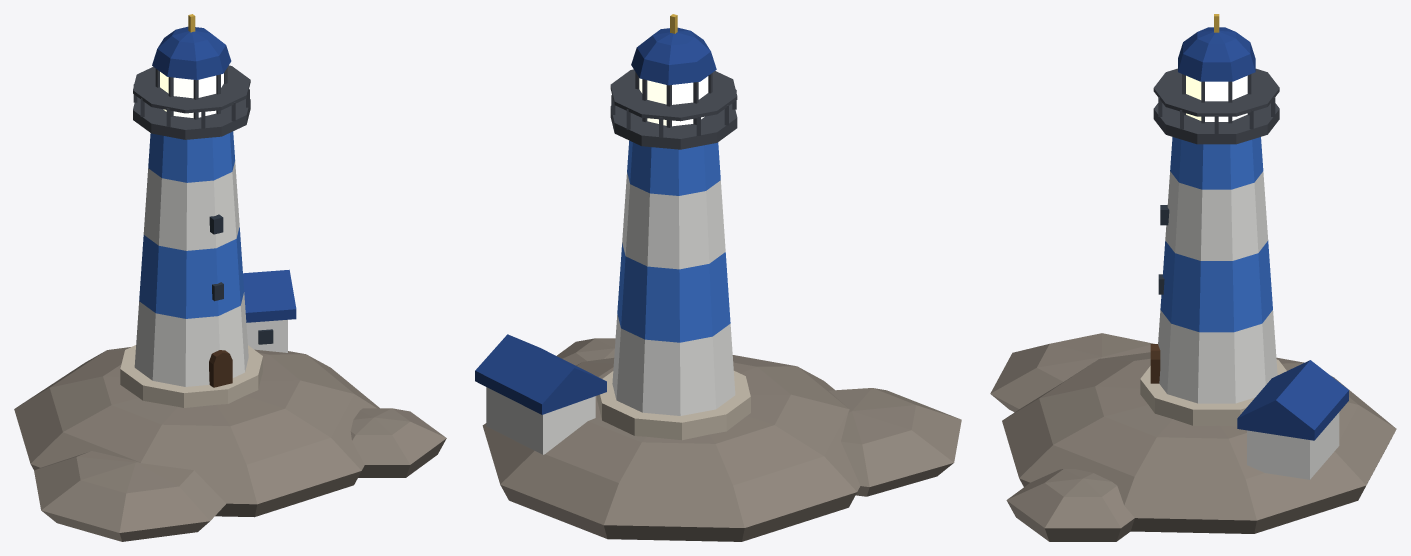
File: bld_lighthouse.glb
3 renders of one model, left to right at view 1: azimuth 30°, elevation 25°; view 2: azimuth 150°, elevation 25°; view 3: azimuth 270°, elevation 25°, orthographic. The views are drawn at different scales.
Parts seen in each view (by area): view 1: bld_lighthouse; view 2: bld_lighthouse; view 3: bld_lighthouse.
Boxes of the visible parts, x1,y1,x2,y2 form: bld_lighthouse: (14, 14, 446, 541); bld_lighthouse: (475, 14, 961, 541); bld_lighthouse: (990, 14, 1396, 541).
Bounding box in the file's own units: 0.4793 × 0.51 × 0.4253.
